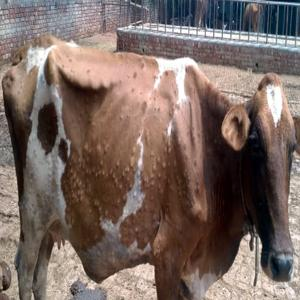lumpy skin diesease: (1, 33, 299, 299)
